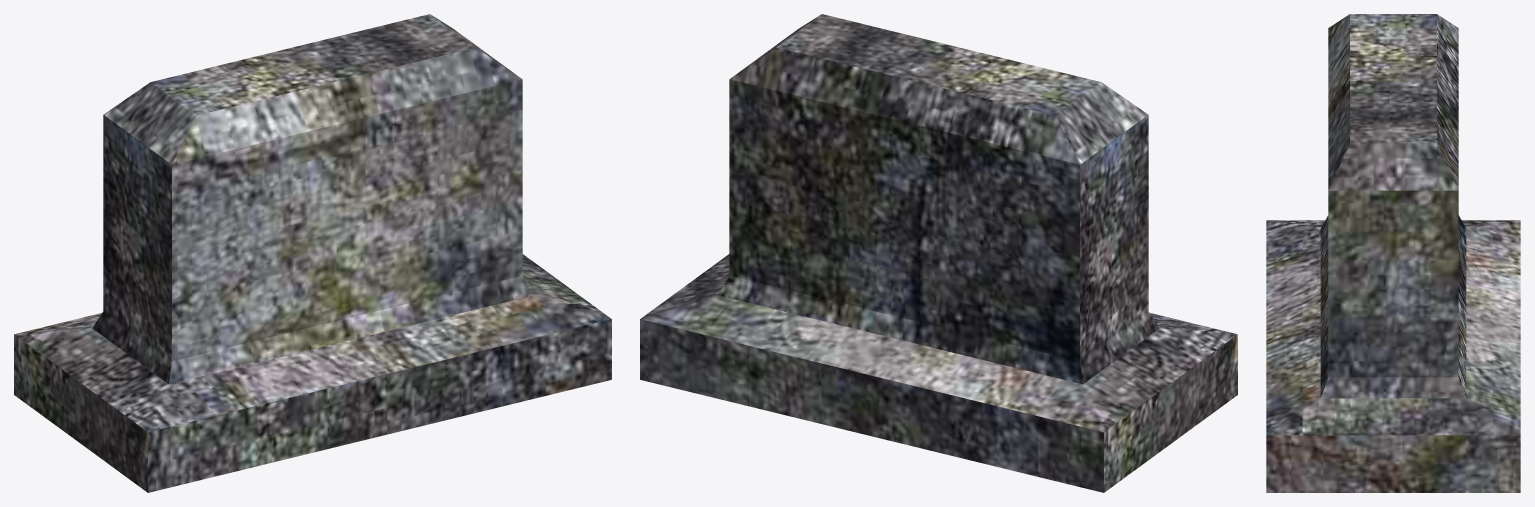
File: smallgravestone.DAE
The picture shows the model from 3 angles, left to right: view 1: azimuth 30°, elevation 25°; view 2: azimuth 150°, elevation 25°; view 3: azimuth 270°, elevation 25°; orthographic projection. The views are drawn at different scales.
Parts seen in each view (by area): view 1: Box001; view 2: Box001; view 3: Box001.
Part boxes in pixels (box(x1,y1,x2,y2)): Box001: box(14, 14, 611, 492); Box001: box(640, 14, 1237, 492); Box001: box(1266, 14, 1520, 492).
Size of the model in its own units: 40 by 20 by 26.58.
